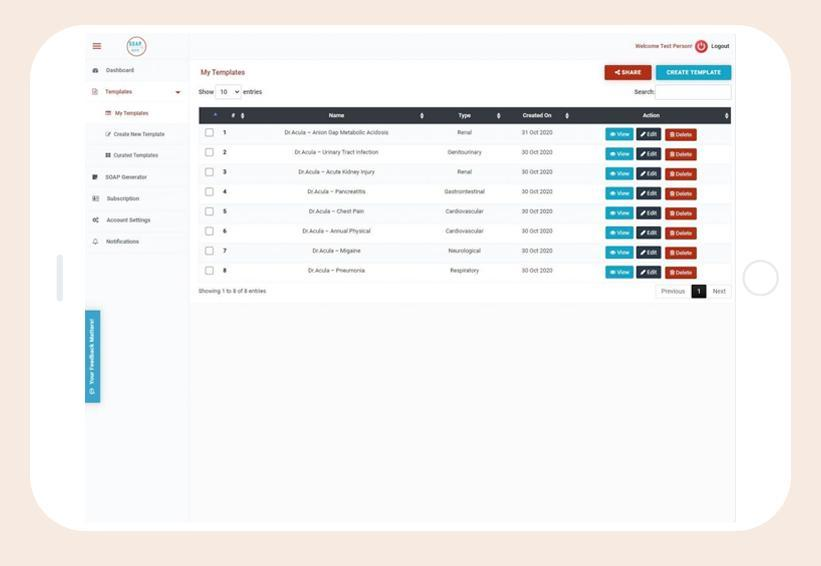button: (87, 232, 192, 255), (86, 101, 190, 124), (86, 145, 191, 167), (86, 188, 190, 210), (86, 210, 191, 231), (86, 61, 190, 82), (87, 124, 191, 145), (86, 168, 190, 188), (86, 310, 102, 404), (658, 66, 733, 82), (605, 65, 654, 81), (656, 285, 693, 299), (666, 129, 698, 142), (666, 248, 698, 261), (606, 128, 635, 142), (606, 148, 635, 162), (606, 266, 635, 280), (667, 188, 698, 201), (667, 228, 698, 241), (666, 149, 698, 161), (666, 169, 698, 181), (666, 268, 698, 280), (606, 227, 635, 240), (607, 168, 634, 181), (607, 208, 634, 221), (637, 128, 662, 142), (607, 188, 635, 200), (667, 209, 697, 220), (637, 168, 662, 181), (637, 188, 662, 201), (638, 267, 662, 280), (638, 247, 663, 259), (708, 287, 733, 299), (607, 248, 634, 259), (638, 208, 662, 220), (638, 150, 661, 162), (638, 228, 661, 240)
checkbox: (206, 149, 215, 158), (206, 169, 215, 178), (206, 188, 215, 197), (206, 208, 215, 217), (206, 228, 215, 237), (206, 267, 215, 276), (206, 248, 215, 256), (206, 129, 214, 137)
dropdown: (216, 87, 243, 99)
icon: (695, 40, 710, 55), (91, 44, 105, 52)
input: (657, 86, 732, 101)
label: (292, 149, 385, 159), (284, 130, 394, 138), (294, 168, 382, 178), (303, 228, 373, 238), (307, 266, 368, 277), (307, 188, 368, 198), (201, 67, 250, 79), (444, 187, 490, 199), (309, 208, 367, 217), (313, 248, 364, 258), (521, 207, 556, 218), (445, 228, 487, 237), (521, 168, 557, 178), (522, 149, 557, 159), (519, 129, 557, 138), (443, 209, 488, 216), (522, 267, 557, 276), (449, 248, 484, 256), (448, 149, 487, 156), (323, 112, 349, 122), (450, 268, 482, 276), (523, 247, 554, 255), (523, 189, 553, 197), (521, 229, 555, 236), (639, 112, 665, 121), (522, 113, 555, 120), (711, 42, 731, 52), (634, 89, 656, 98), (457, 167, 476, 177), (456, 111, 474, 121), (456, 129, 476, 137)
table: (198, 107, 736, 284)
